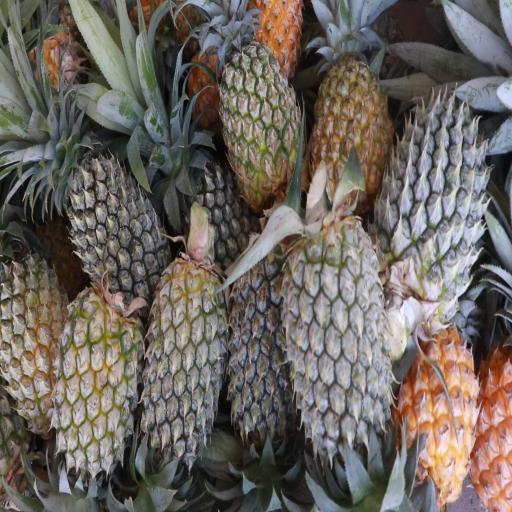------------------------------: (60, 292, 145, 476), (2, 255, 73, 432), (219, 43, 299, 195)
Pineapple - v8 v1: (396, 319, 478, 504), (316, 49, 394, 208)
